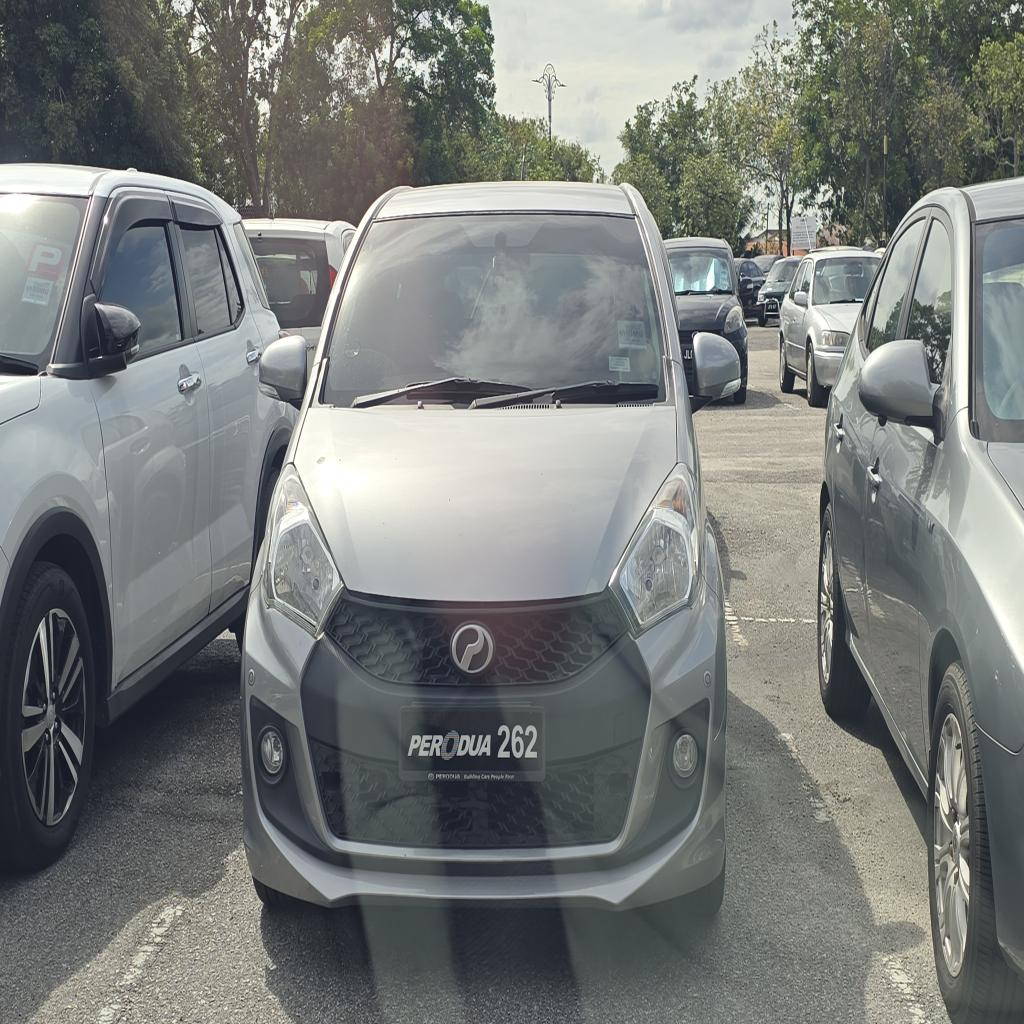car: (242, 182, 739, 911)
car plate: (400, 706, 544, 781)
